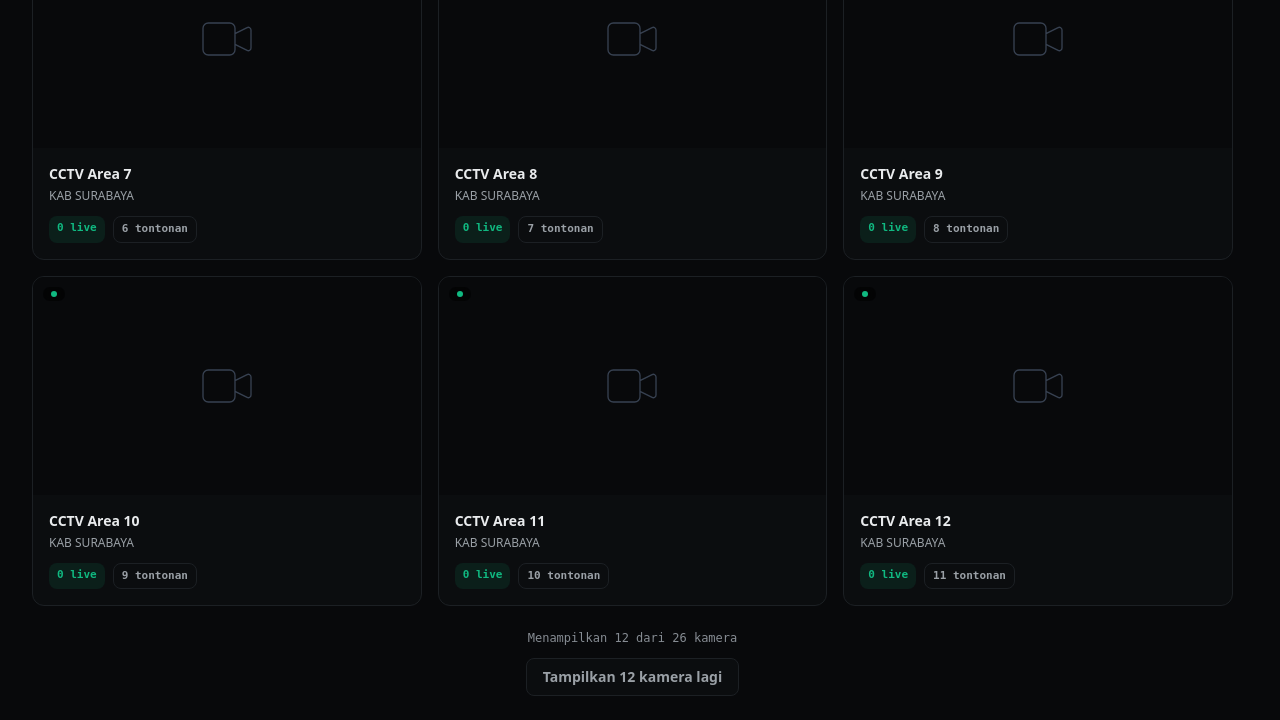
AreaPublicPage › merender daftar semua CCTV area secara bertahap untuk area besar
(page scrolled)
Expected: the text "CCTV Area 12" is shown, [860, 511, 951, 530]
Expected: the text "Menampilkan 12 dari 26 kamera" is shown, [528, 630, 737, 646]
Click the button "Tampilkan 12 kamera lagi" at (632, 677), box [526, 658, 739, 696]
(page scrolled)
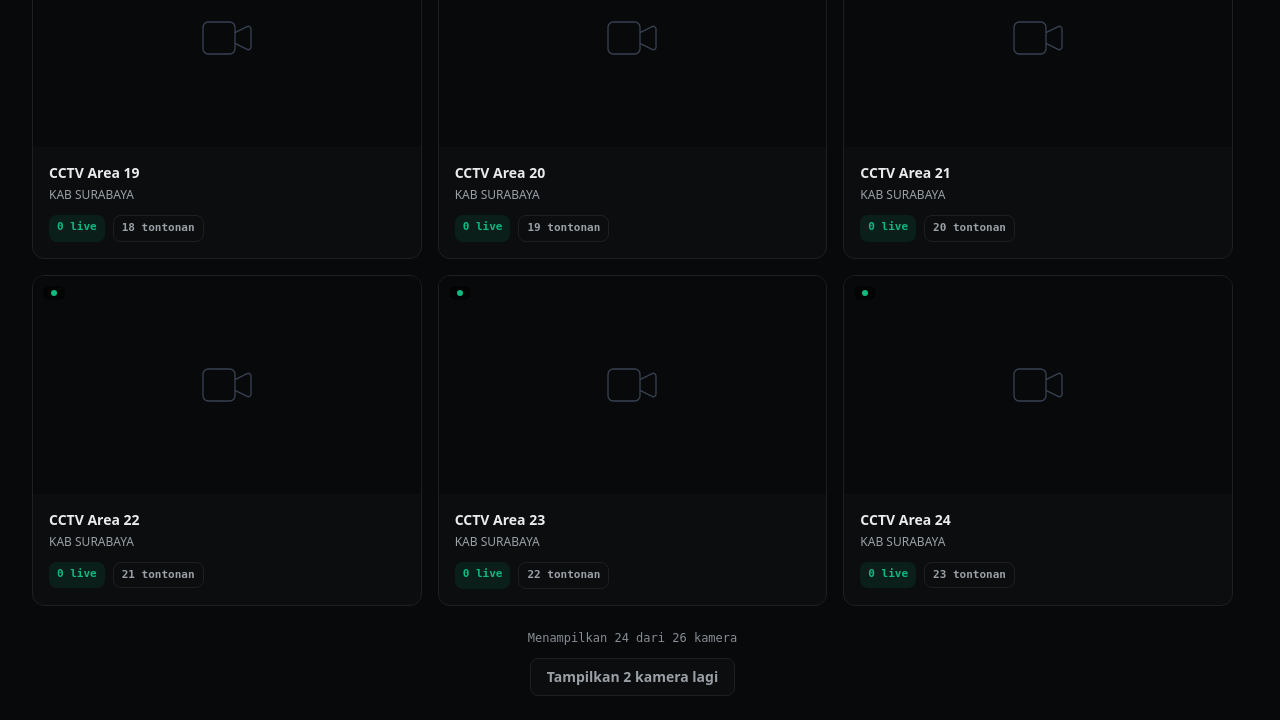
Now the text "CCTV Area 24" is shown, box [860, 510, 951, 529]
